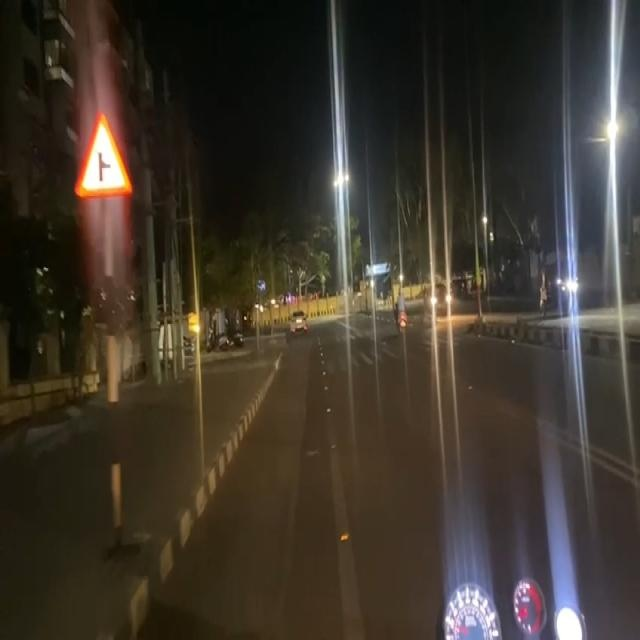bien_nguy_hiem: (73, 108, 134, 203)
